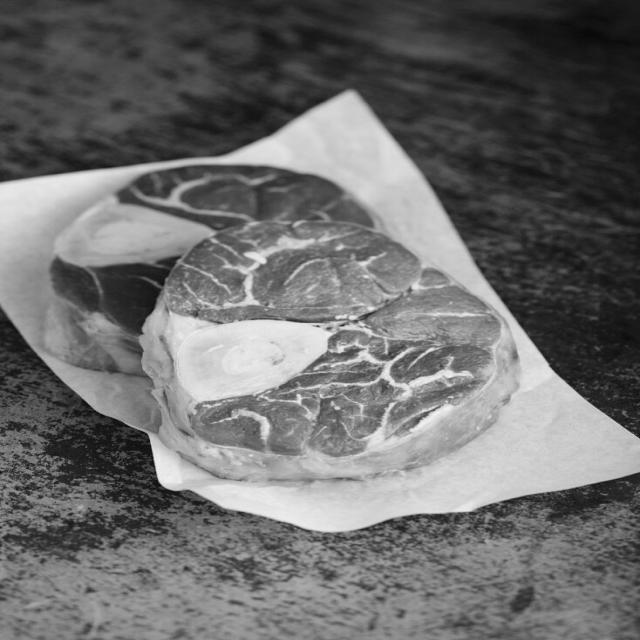ham hock: (143, 223, 521, 480), (48, 170, 401, 373)
